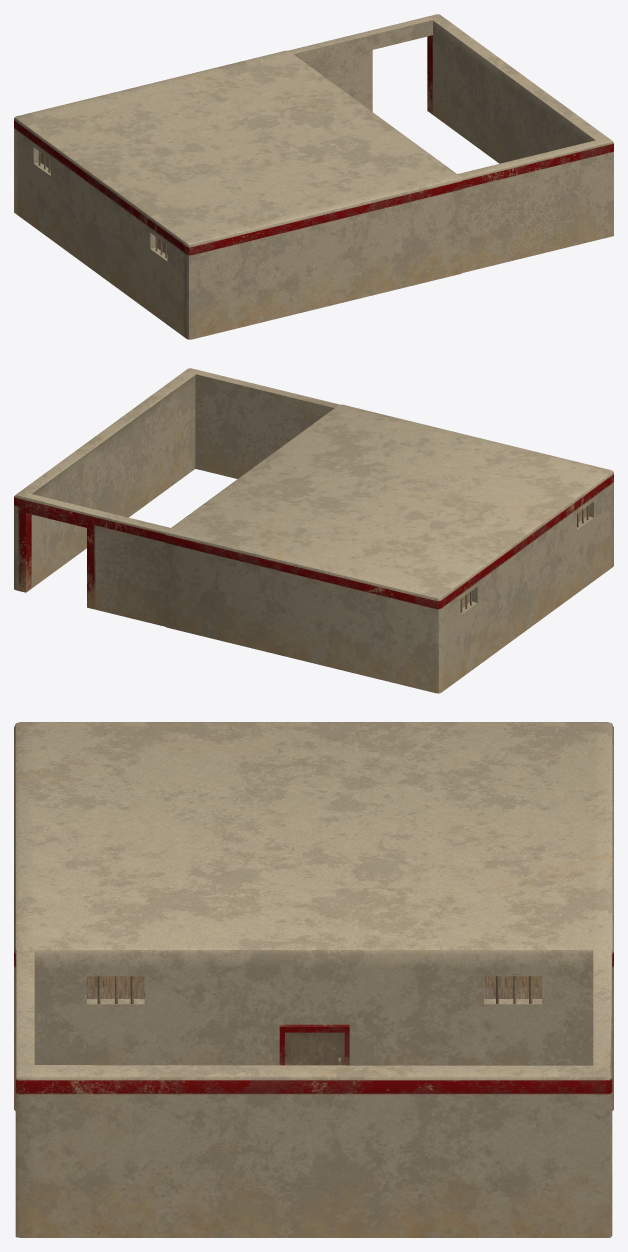
File: casa.glb
3 views of the same model, one above another, from view 1: azimuth 30°, elevation 25°; view 2: azimuth 150°, elevation 25°; view 3: azimuth 270°, elevation 25° (orthographic). The views are drawn at different scales.
Parts seen in each view (by area): view 1: House_07; view 2: House_07; view 3: House_07.
Boxes of the visible parts, bbox=[...] form: House_07: bbox=[14, 14, 613, 339]; House_07: bbox=[14, 368, 613, 693]; House_07: bbox=[14, 722, 613, 1237].
Bounding box in the file's own units: 14 × 3 × 10.
1 material, 1 textured.
